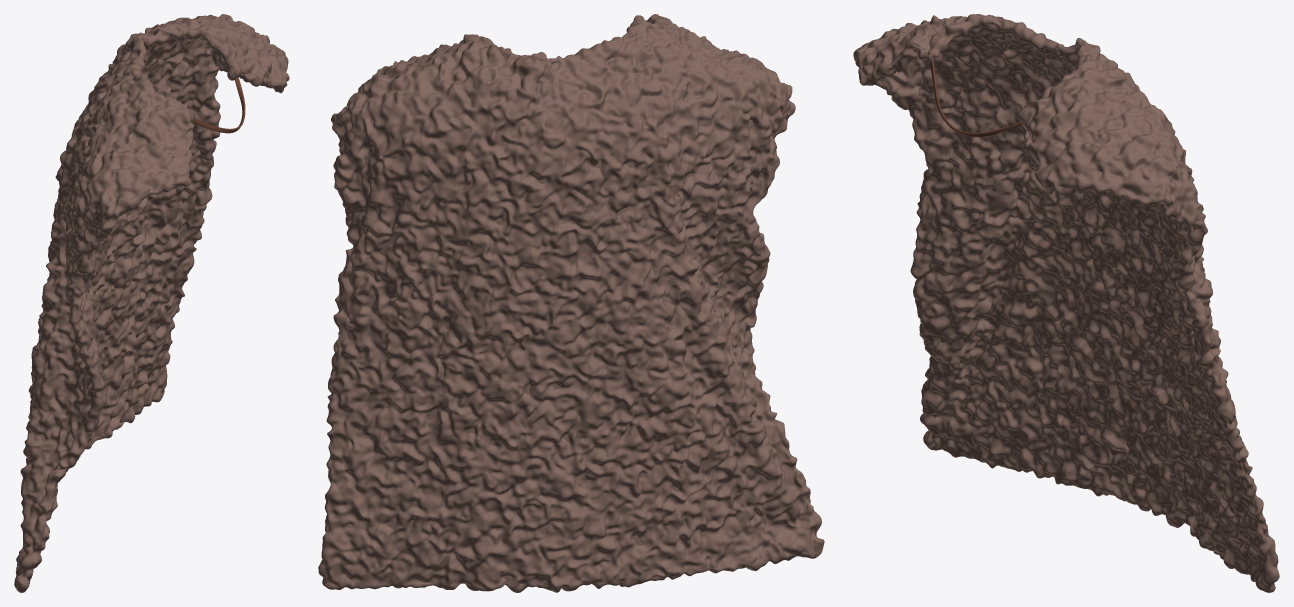
File: COSSACK_BURKA_2#30.glb
3 views of the same model, side by side, from view 1: azimuth 30°, elevation 25°; view 2: azimuth 150°, elevation 25°; view 3: azimuth 270°, elevation 25° (orthographic). The views are drawn at different scales.
Parts seen in each view (by area): view 1: 2_level_kazak_pose_2; view 2: 2_level_kazak_pose_2; view 3: 2_level_kazak_pose_2.
Boxes of the visible parts, x1=… form: 2_level_kazak_pose_2: x1=14, y1=14, x2=289, y2=592; 2_level_kazak_pose_2: x1=318, y1=14, x2=824, y2=592; 2_level_kazak_pose_2: x1=853, y1=14, x2=1279, y2=592.
Size of the model in its own units: 4.81 by 6.21 by 4.68.
